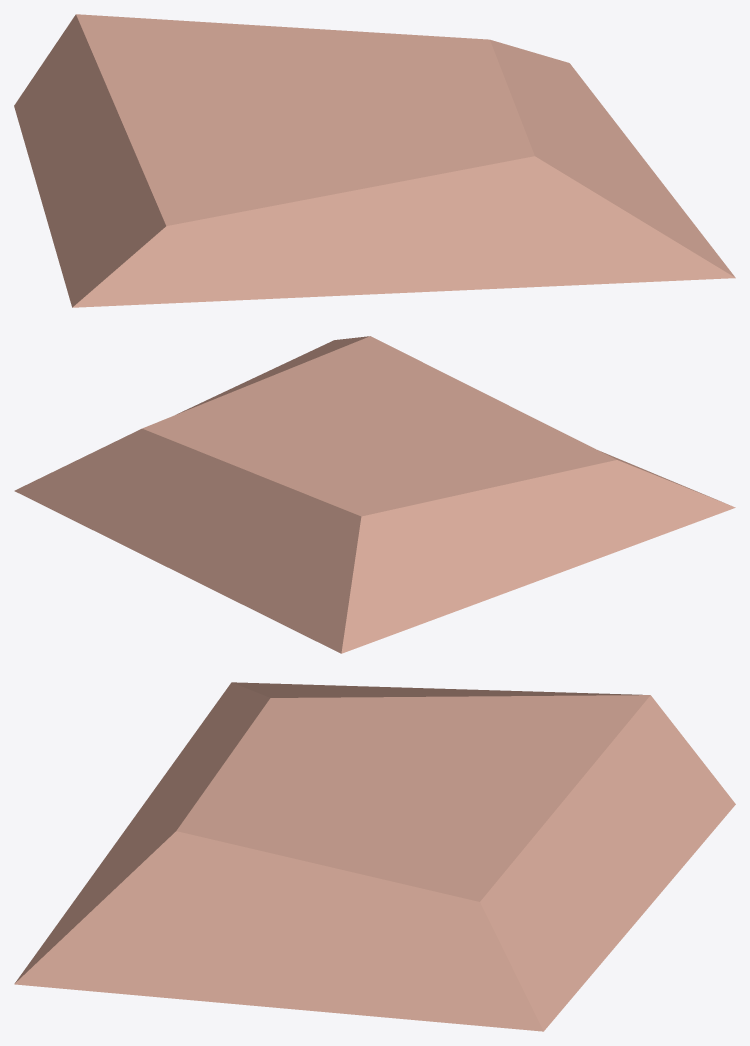
File: Rock_Mesa_Small_4.fbx
The picture shows the model from 3 angles, top to bottom: view 1: azimuth 30°, elevation 25°; view 2: azimuth 150°, elevation 25°; view 3: azimuth 270°, elevation 25°; orthographic projection. The views are drawn at different scales.
Visible parts, largest first — view 1: Cube; view 2: Cube; view 3: Cube.
Boxes of the visible parts, left/top/right/bottom form: Cube: left=14, top=14, right=735, bottom=307; Cube: left=14, top=336, right=735, bottom=653; Cube: left=14, top=682, right=735, bottom=1031.
Bounding box in the file's own units: 23.77 × 4.1 × 22.55.
